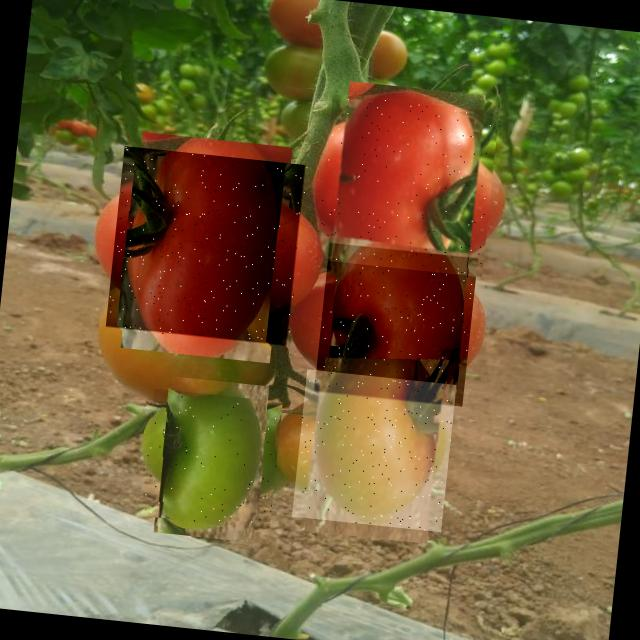Ripe Tomato: (105, 146, 308, 348), (316, 94, 498, 277), (314, 243, 478, 407), (291, 369, 456, 532)
Unripe Tomato: (140, 388, 282, 530)
